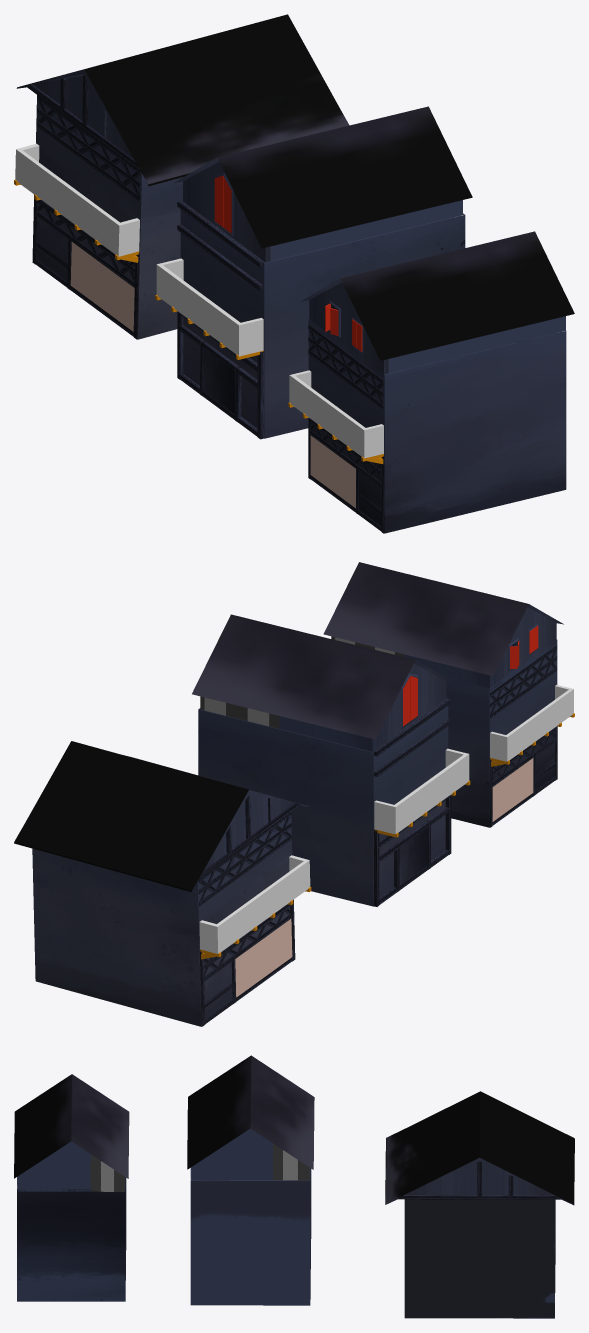
File: Domki.fbx
3 views of the same model, one above another, from view 1: azimuth 30°, elevation 25°; view 2: azimuth 150°, elevation 25°; view 3: azimuth 270°, elevation 25° (orthographic). The views are drawn at different scales.
Parts seen in each view (by area): view 1: Domek3.001, House2.003, Domek1.004; view 2: Domek1.004, House2.003, Domek3.001; view 3: Domek1.004, House2.003, Domek3.001.
Part boxes in pixels (x1,y1,x2,y2): Domek3.001: (288, 231, 574, 533); House2.003: (155, 106, 472, 439); Domek1.004: (14, 14, 349, 339); Domek1.004: (14, 741, 311, 1026); House2.003: (192, 614, 470, 906); Domek3.001: (323, 562, 574, 827); Domek1.004: (385, 1091, 574, 1318); House2.003: (187, 1055, 314, 1305); Domek3.001: (14, 1074, 129, 1301).
Size of the model in its own units: 387 by 394 by 1048.
